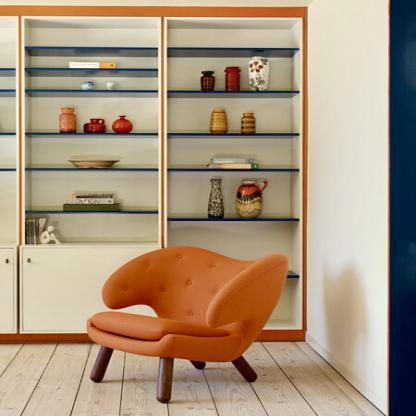chair: (79, 244, 293, 405)
